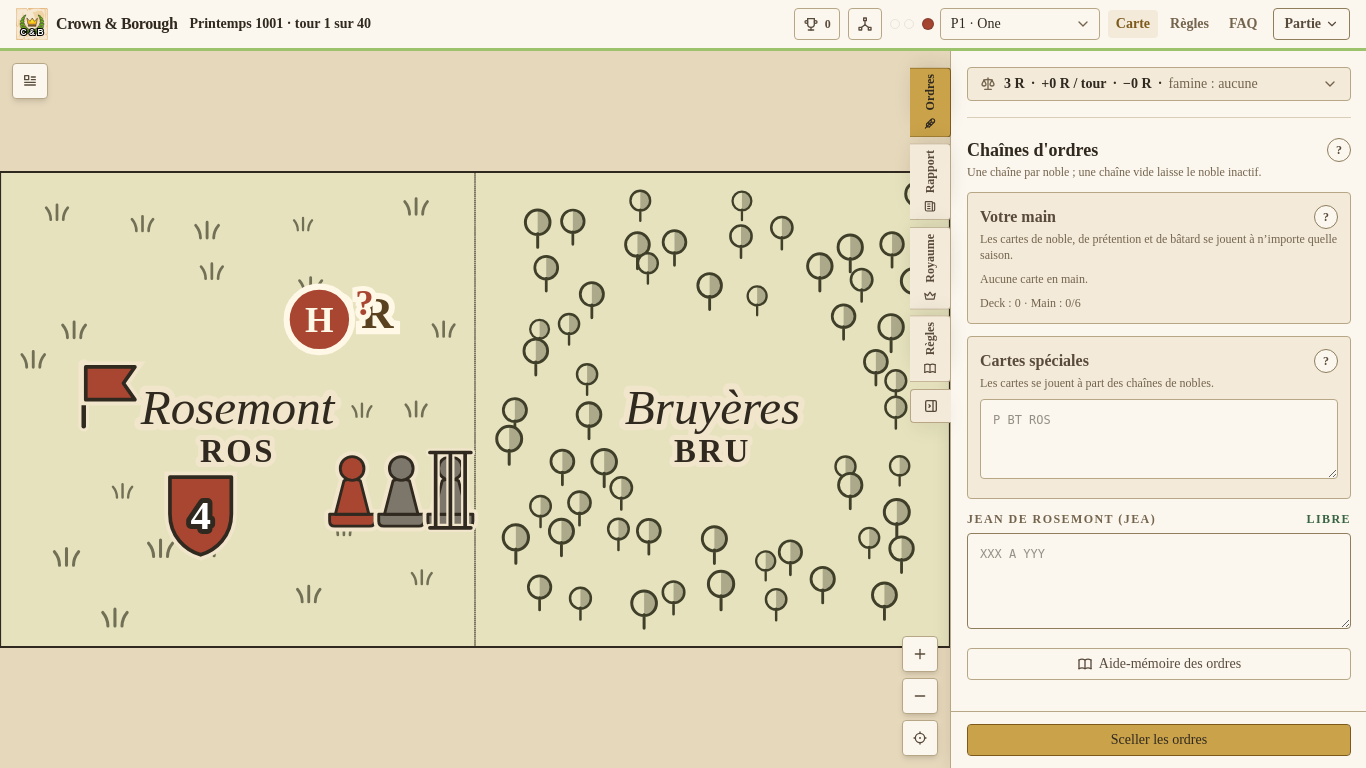
Test: App command/report tabs › opens the full rules and FAQ pages from the hotseat header
The width and height of the screenshot is (1366, 768).
Expected: the text "Printemps 1001 · tour 1 sur 40" is shown, [189,14,371,34]
Click the button "Règles" at (1190,24), box [1162,10,1217,38]
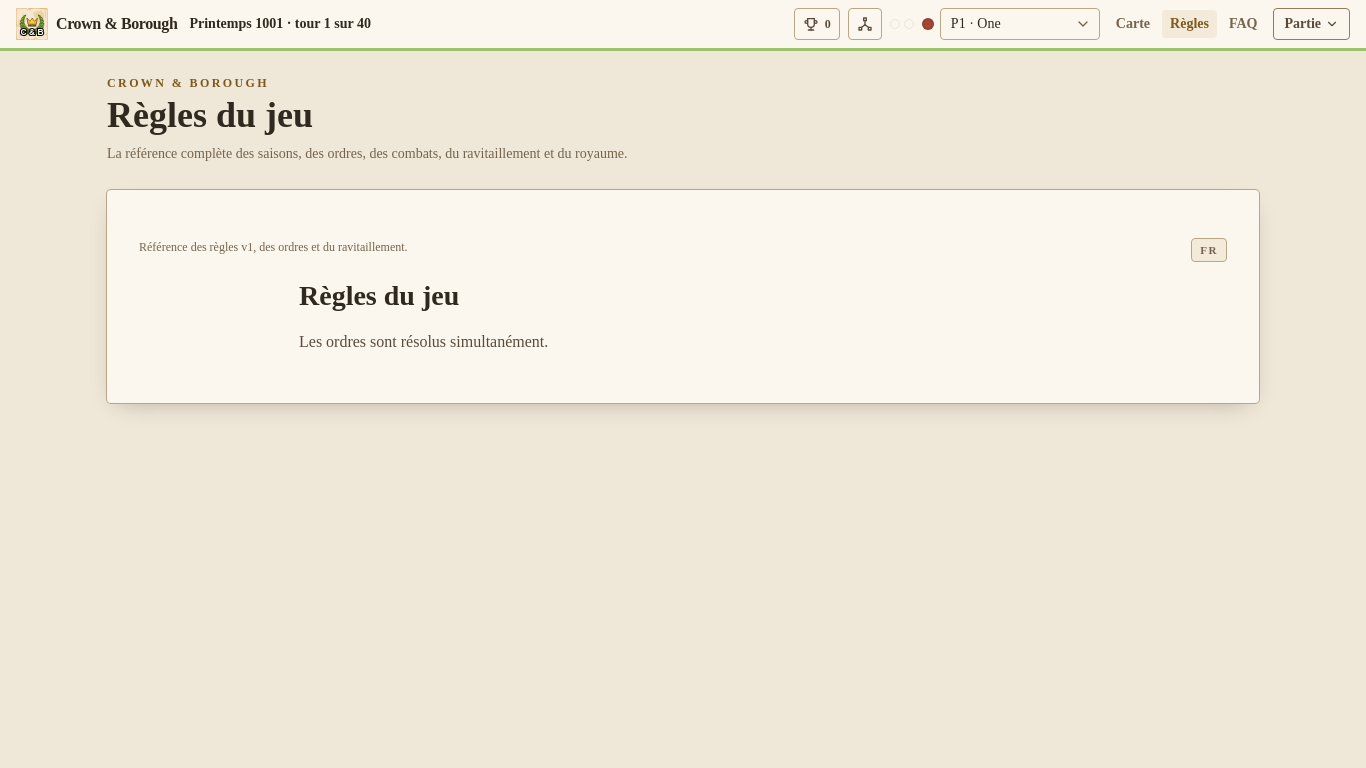
Now the 1st heading "Règles du jeu" is shown, box [107,95,313,135]
Click the button "FAQ" at (1243,24), box [1221,10,1266,38]
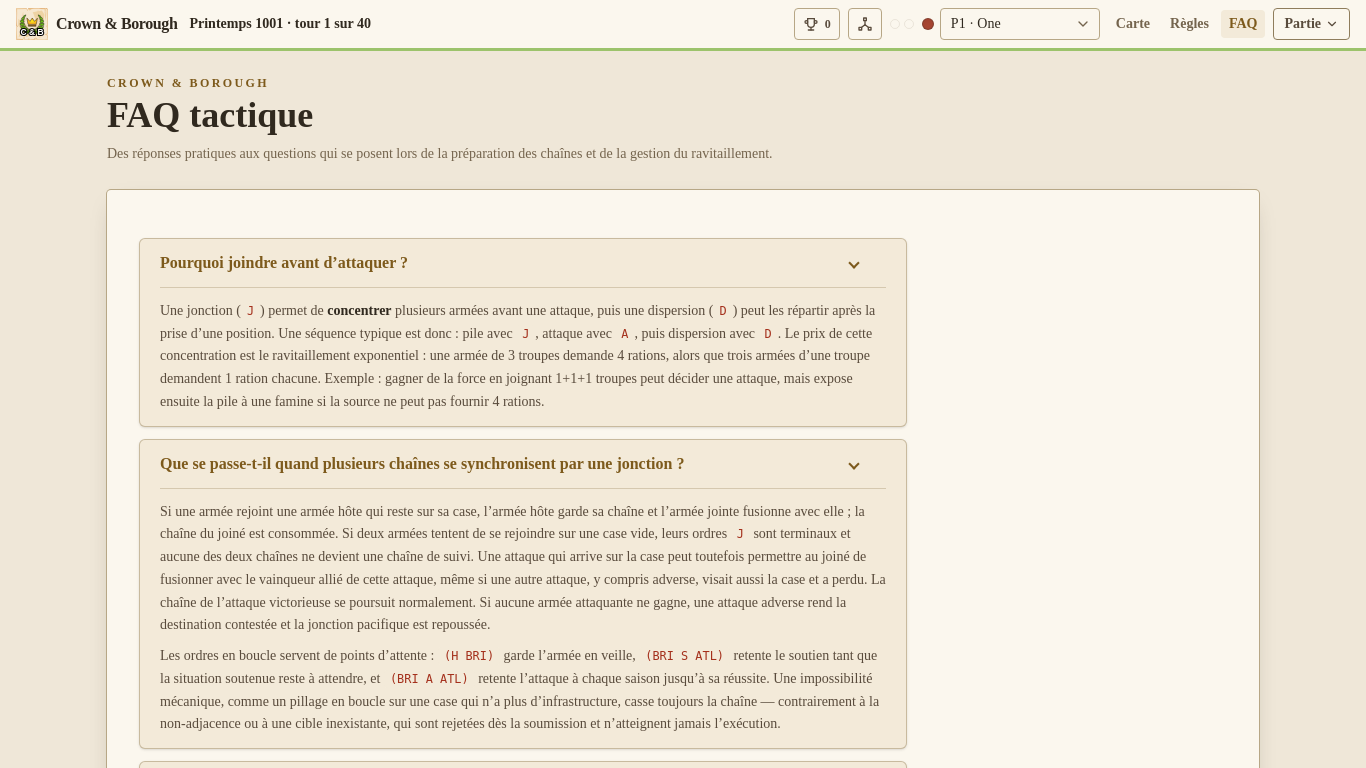
Now the heading "FAQ tactique" is shown, box [107,95,313,135]
Click the button "Carte" at (1133,24), box [1108,10,1158,38]
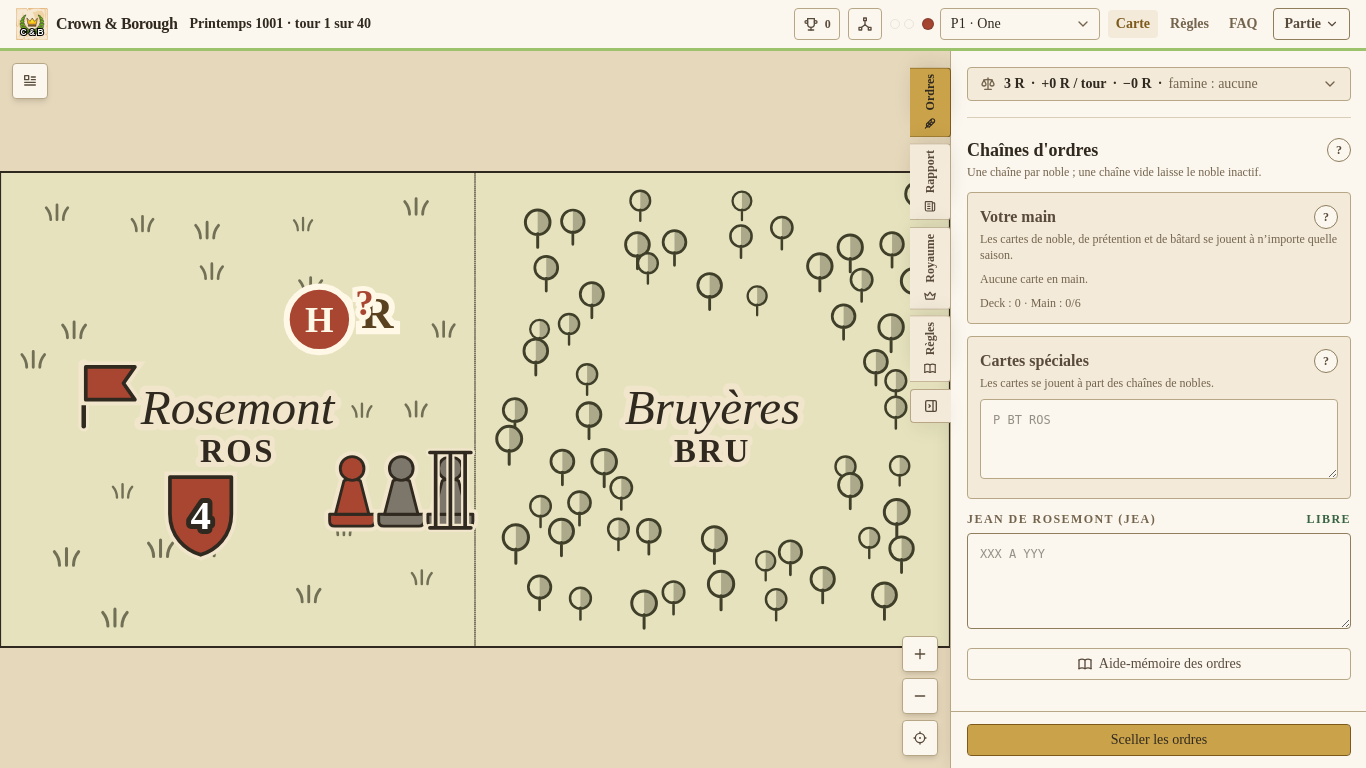
Now the element showing "Ordres Rapport Royaume Règles" is shown, box [910,67,951,383]
